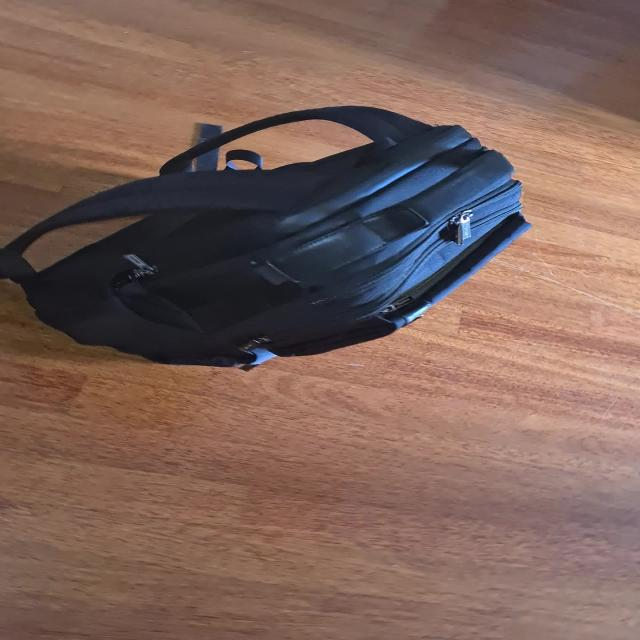backpack: (0, 93, 543, 364)
